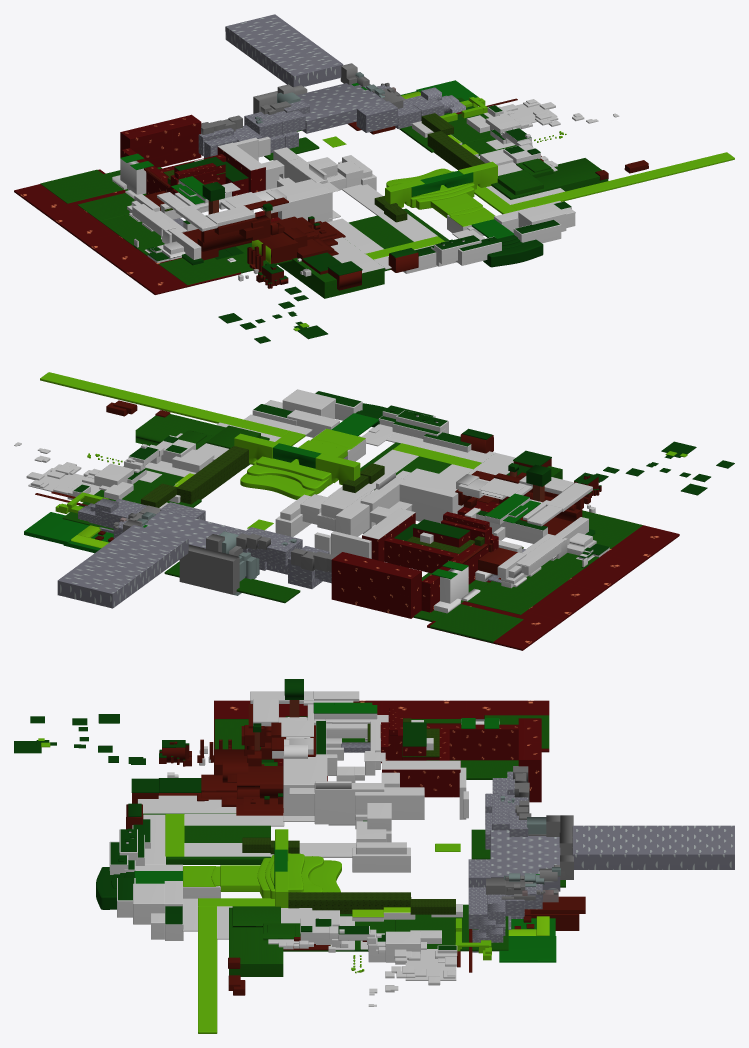
Rendered from MainPlazaNoCollider.fbx.
The picture shows the model from 3 angles, top to bottom: view 1: azimuth 30°, elevation 25°; view 2: azimuth 150°, elevation 25°; view 3: azimuth 270°, elevation 25°; orthographic projection. The views are drawn at different scales.
Parts seen in each view (by area): view 1: Block28742, Block28871, Block28838, Block28887, Block28656, Block28617, Block28743, Block28654, Block28835, Block28622, Block28616, Block28590 (+22 smaller); view 2: Block28742, Block28871, Block28838, Block28656, Block28617, Block28872, Block28835, Block28975, Block29040, Block28654, Block28887, Block29037 (+47 smaller); view 3: Block28871, Block28742, Block28887, Block28817, Block28656, Block28654, Block28590, Block28975, Block28617, Block28877, Block28616, Block28638 (+36 smaller).
Part boxes in pixels (left/top/right/bottom): Block28742: left=14, top=169, right=240, bottom=294; Block28871: left=225, top=14, right=343, bottom=86; Block28838: left=120, top=114, right=201, bottom=167; Block28887: left=297, top=83, right=386, bottom=133; Block28656: left=511, top=152, right=734, bottom=210; Block28617: left=270, top=179, right=332, bottom=222; Block28743: left=158, top=242, right=292, bottom=285; Block28654: left=491, top=158, right=608, bottom=199; Block28835: left=40, top=169, right=123, bottom=203; Block28622: left=278, top=258, right=384, bottom=298; Block28616: left=342, top=184, right=437, bottom=241; Block28590: left=348, top=208, right=448, bottom=271; Block28742: left=427, top=525, right=679, bottom=650; Block28871: left=57, top=525, right=188, bottom=608; Block28838: left=331, top=552, right=421, bottom=618; Block28656: left=40, top=372, right=289, bottom=437; Block28617: left=399, top=468, right=463, bottom=522; Block28872: left=179, top=544, right=239, bottom=594; Block28835: left=430, top=604, right=523, bottom=642; Block28975: left=177, top=446, right=248, bottom=504; Block29040: left=384, top=537, right=458, bottom=573; Block28654: left=135, top=414, right=269, bottom=468; Block28887: left=145, top=510, right=245, bottom=548; Block29037: left=490, top=553, right=598, bottom=596; Block28871: left=572, top=825, right=734, bottom=869; Block28742: left=214, top=700, right=549, bottom=752; Block28887: left=490, top=830, right=560, bottom=891; Block28817: left=426, top=724, right=518, bottom=760; Block28656: left=198, top=906, right=217, bottom=1033; Block28654: left=229, top=907, right=283, bottom=976; Block28590: left=143, top=814, right=270, bottom=864; Block28975: left=288, top=892, right=411, bottom=913; Block28617: left=283, top=755, right=327, bottom=815; Block28877: left=395, top=904, right=508, bottom=951; Block28616: left=184, top=843, right=355, bottom=857; Block28638: left=355, top=787, right=424, bottom=819.
Size of what is drawn, in the model's own units: 463 by 58.09 by 425.
